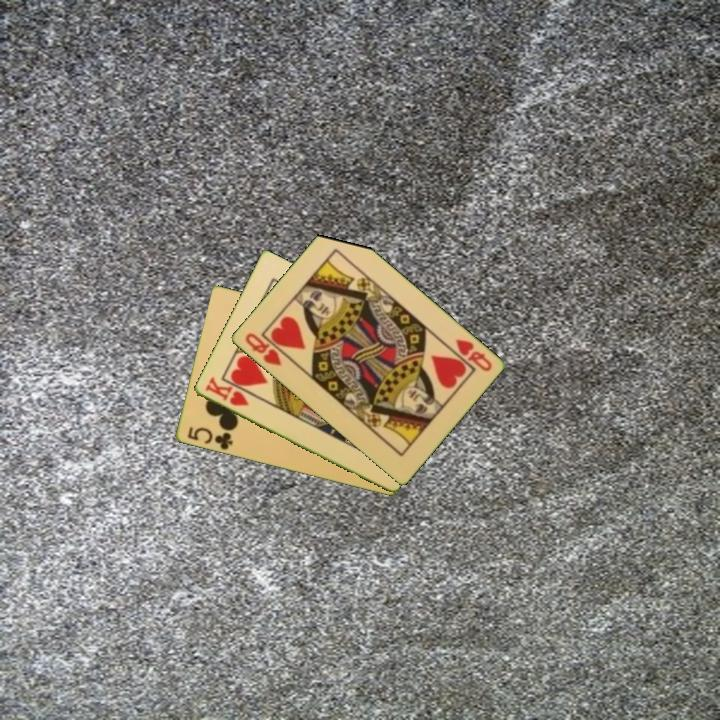5c: (184, 423, 235, 453)
Kh: (201, 374, 251, 409)
Qh: (451, 335, 495, 375), (241, 329, 284, 369)
